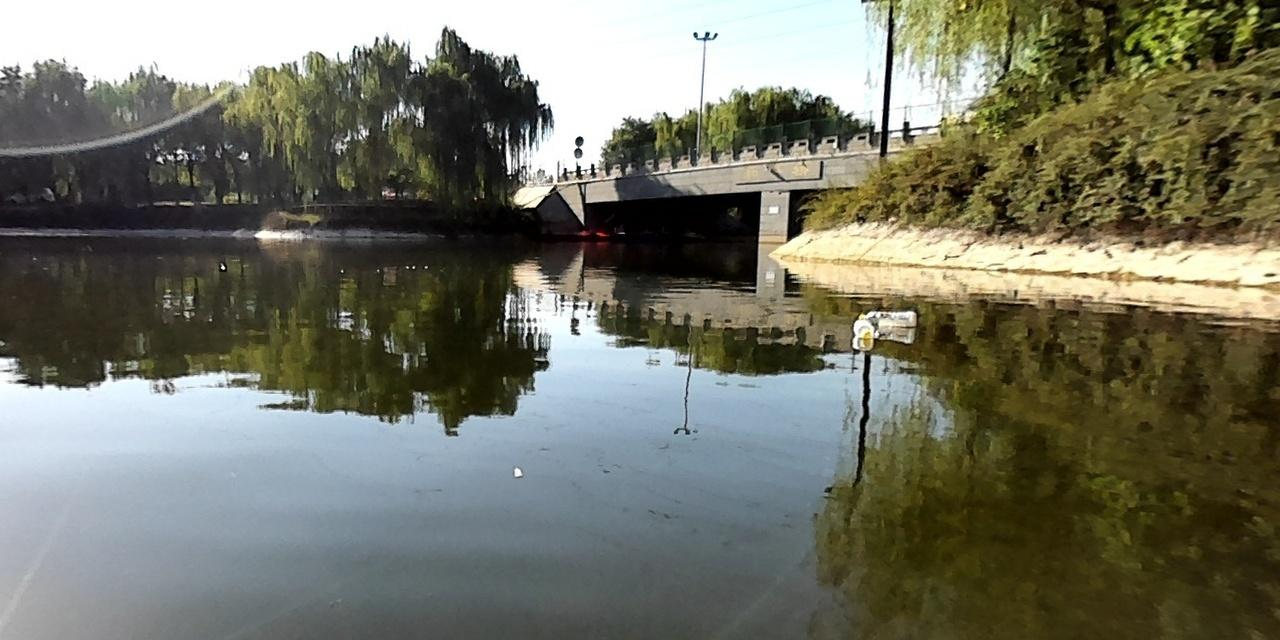bottle: (859, 311, 916, 327), (853, 320, 871, 336)
